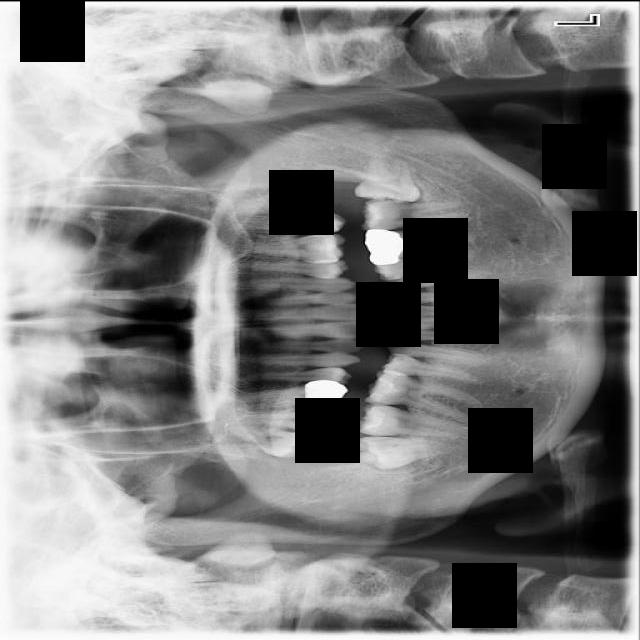3M ESPE Implant: (225, 419, 322, 463)
52: (362, 220, 416, 268)
73: (399, 215, 475, 260), (568, 20, 582, 28)
BioHorizons Implant: (238, 205, 347, 235)
BioLife Implant: (230, 176, 332, 221)
Biomet 3i Implant: (354, 156, 423, 202)
Blue Sky Bio Implant: (359, 190, 468, 232)
Caries: (235, 409, 344, 433)
Implant: (357, 399, 469, 452)
Keystone Dental Implant: (352, 434, 455, 473)
